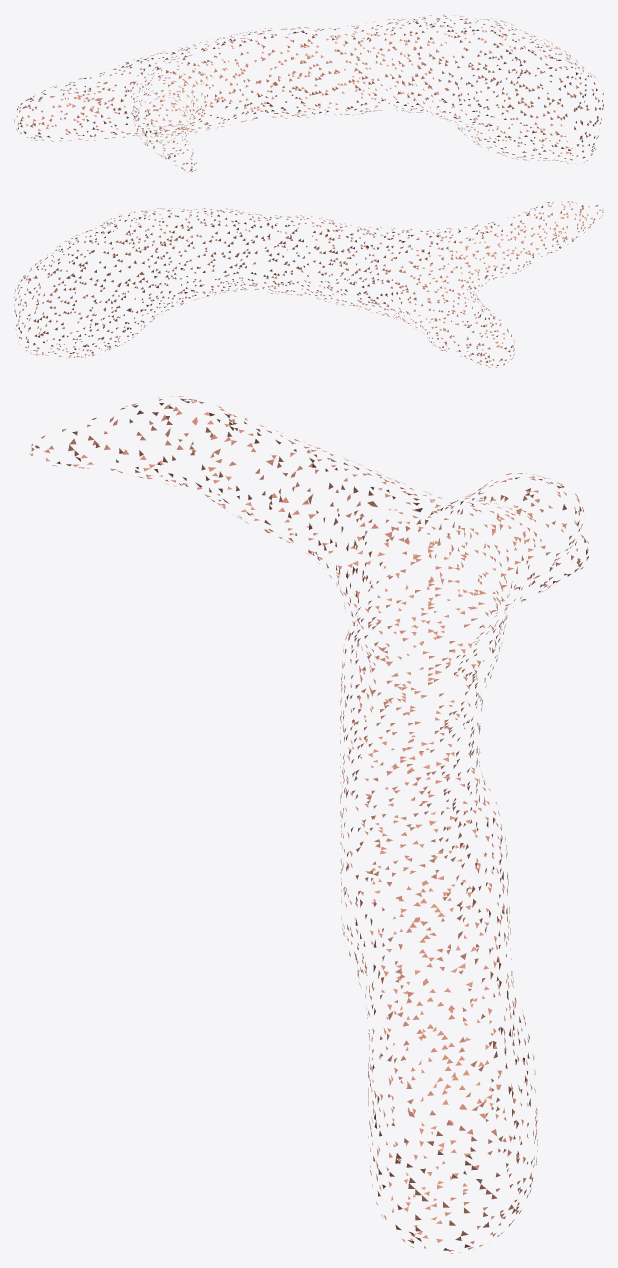
File: morph_003.glb
3 renders of one model, top to bottom at view 1: azimuth 30°, elevation 25°; view 2: azimuth 150°, elevation 25°; view 3: azimuth 270°, elevation 25°, orthographic. The views are drawn at different scales.
Size of the model in its own units: 124 by 48.72 by 59.08.
